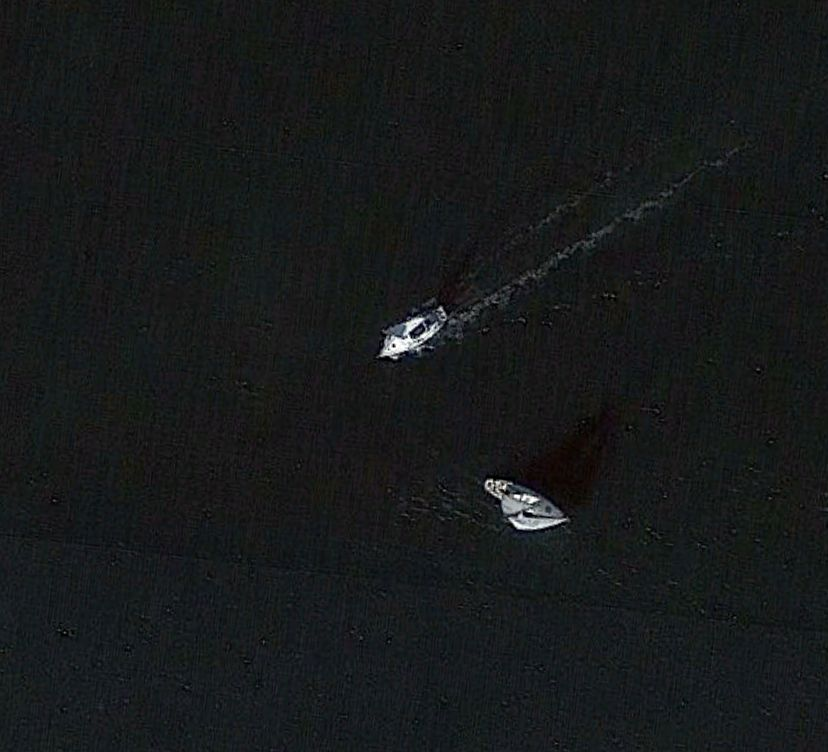boat: (480, 474, 569, 532), (378, 302, 456, 360)
